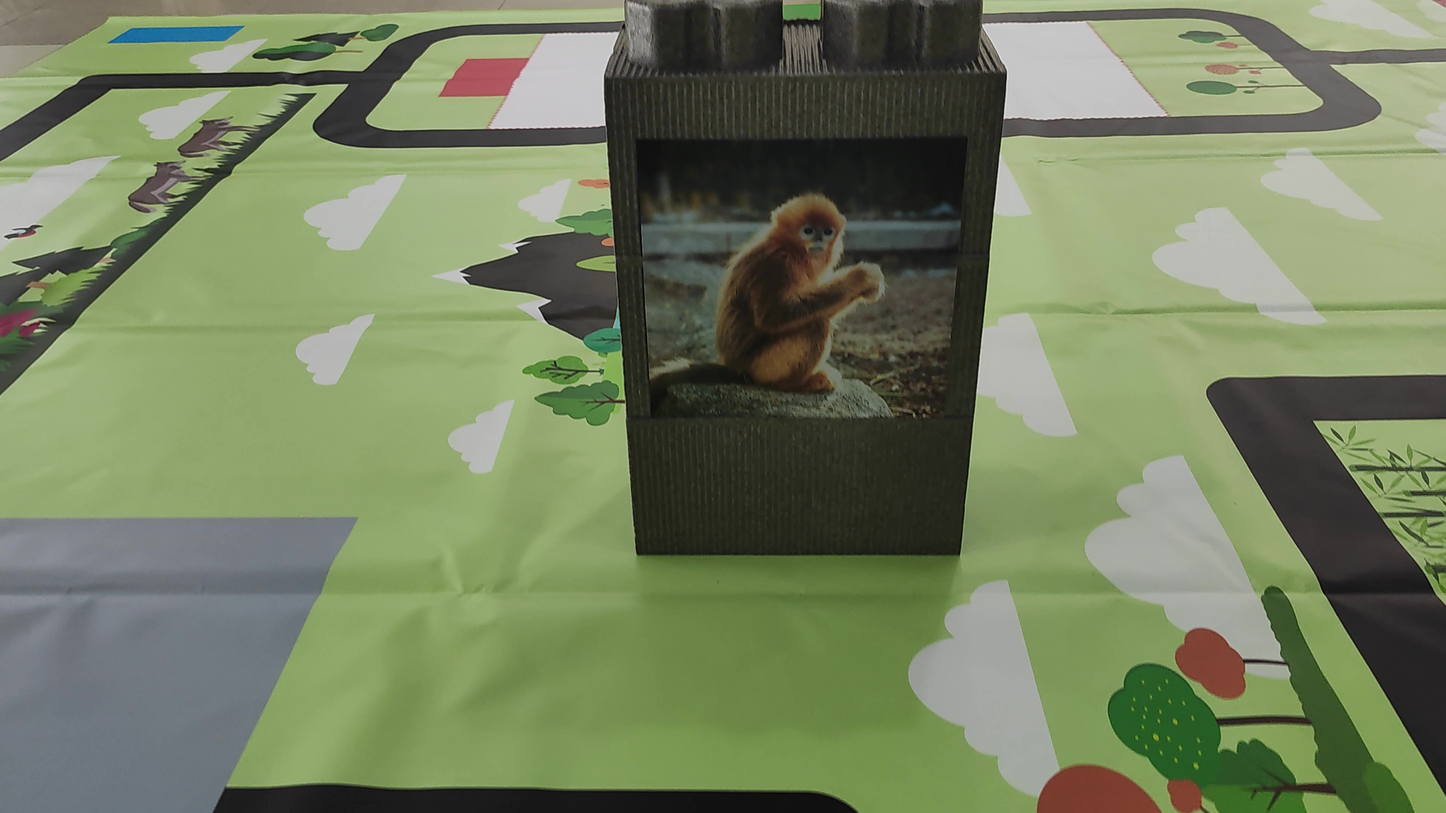monkey: (671, 163, 916, 423)
